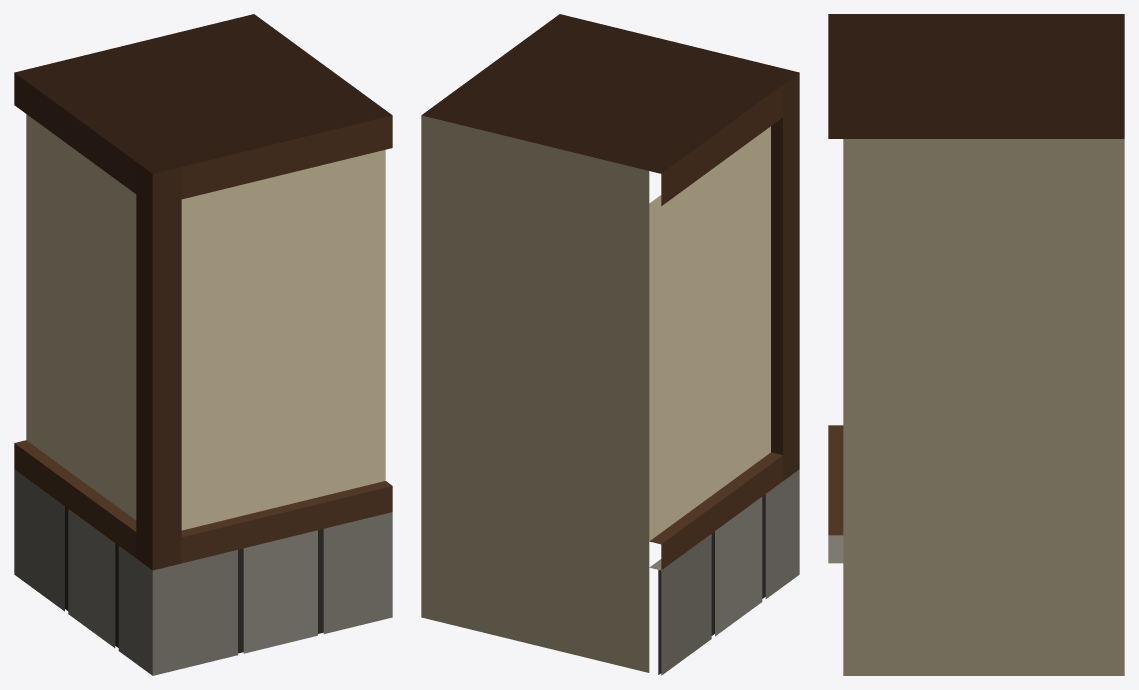
The model's file is tile_house_wall_9.glb.
3 views of the same model, side by side, from view 1: azimuth 30°, elevation 25°; view 2: azimuth 150°, elevation 25°; view 3: azimuth 270°, elevation 25° (orthographic). The views are drawn at different scales.
Parts seen in each view (by area): view 1: tile_house_wall_9; view 2: tile_house_wall_9; view 3: tile_house_wall_9.
Boxes of the visible parts, x1,y1,x2,y2 form: tile_house_wall_9: (14,14,392,675); tile_house_wall_9: (421,14,799,675); tile_house_wall_9: (828,14,1124,675).
Size of the model in its own units: 1 by 2 by 1.
